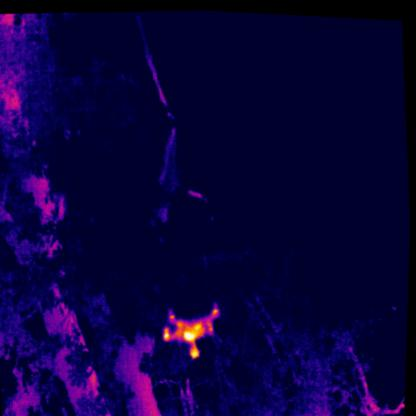drone: (159, 296, 225, 358)
